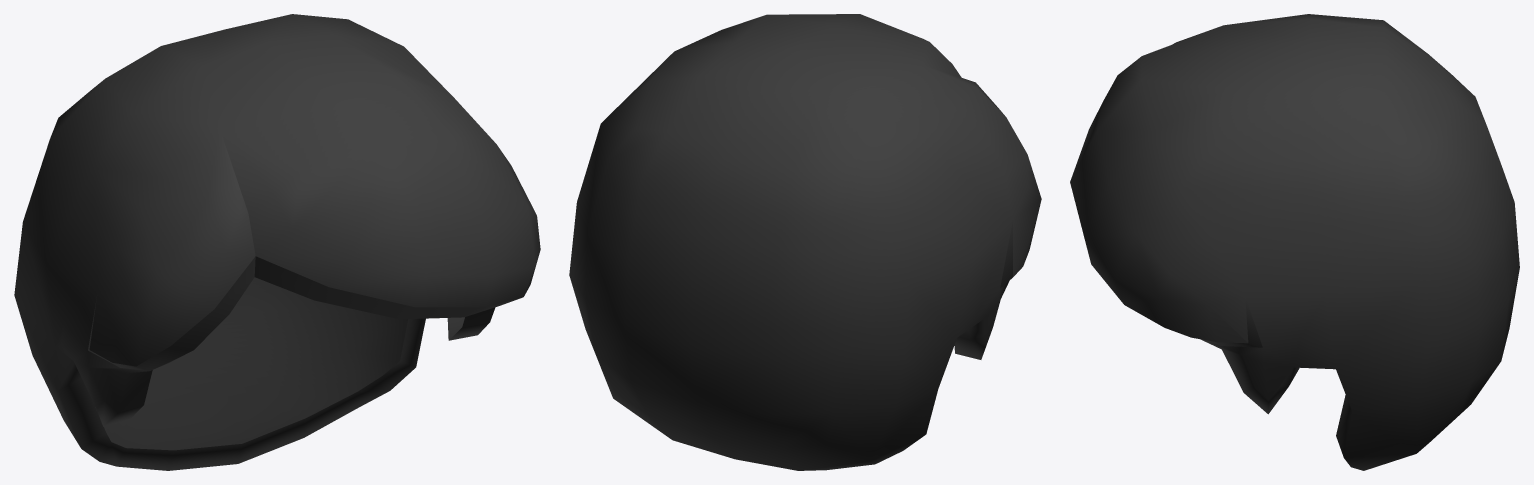
Rendered from Hair_3.fbx.
3 views of the same model, side by side, from view 1: azimuth 30°, elevation 25°; view 2: azimuth 150°, elevation 25°; view 3: azimuth 270°, elevation 25° (orthographic). The views are drawn at different scales.
Parts seen in each view (by area): view 1: Hair_3; view 2: Hair_3; view 3: Hair_3.
Boxes of the visible parts, x1,y1,x2,y2 form: Hair_3: (14, 14, 540, 470); Hair_3: (569, 14, 1041, 470); Hair_3: (1070, 14, 1519, 470).
Bounding box in the file's own units: 53.96 × 53.78 × 54.83.
